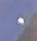Squash-Ball: (0, 1, 37, 41)
